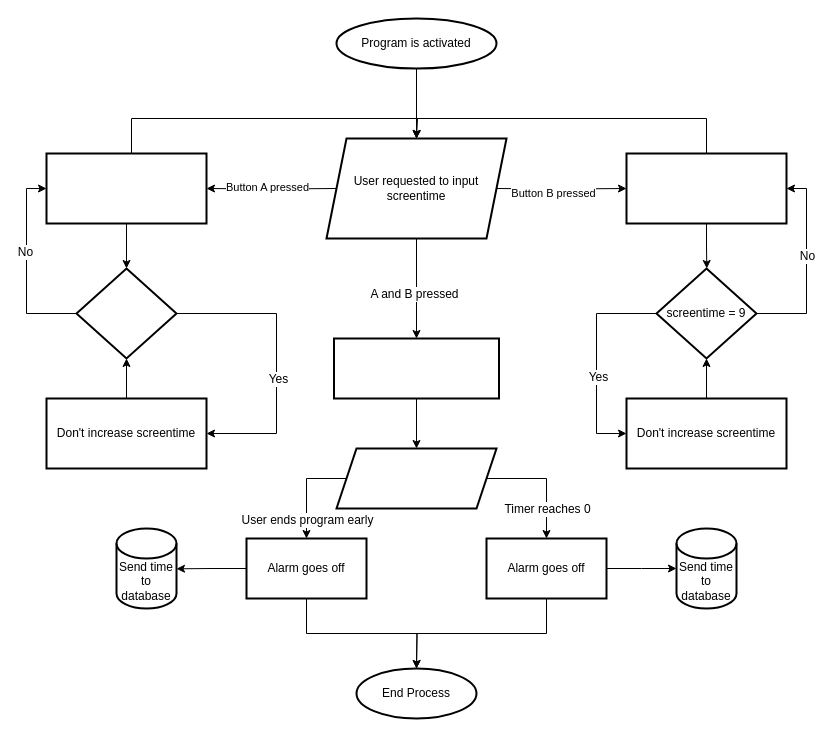
Image size: 832x736. Some labels were removed from this diagram. The shapes that lost their labels are listed below. From the top down, each one's centre as x and y in pixels, then its label:
At point 126,188: "Decrease screentime on timer by 1 hour".
At point 706,188: "Increase screentime on timer by 1 hour".
At point 126,313: "screentime = 1".
At point 416,368: "Display timer on microbit".
At point 416,478: "User can press logo to end program early".
